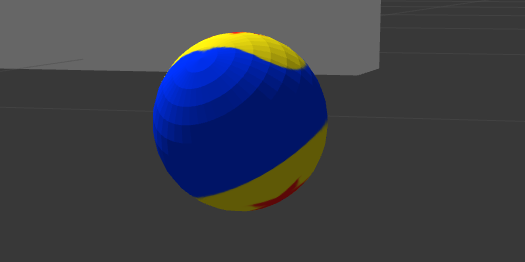toy story ball: (156, 31, 329, 211)
